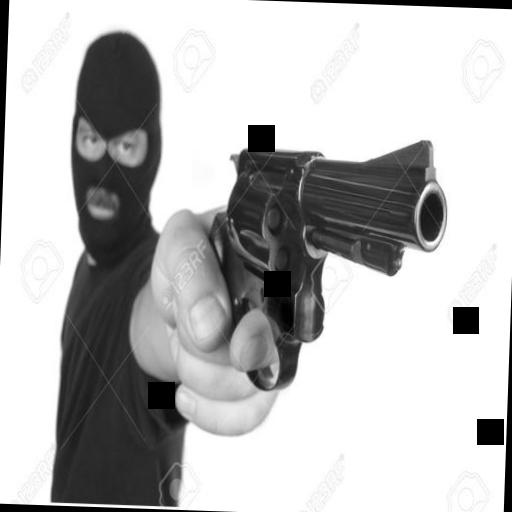Handgun: (191, 133, 456, 407)
